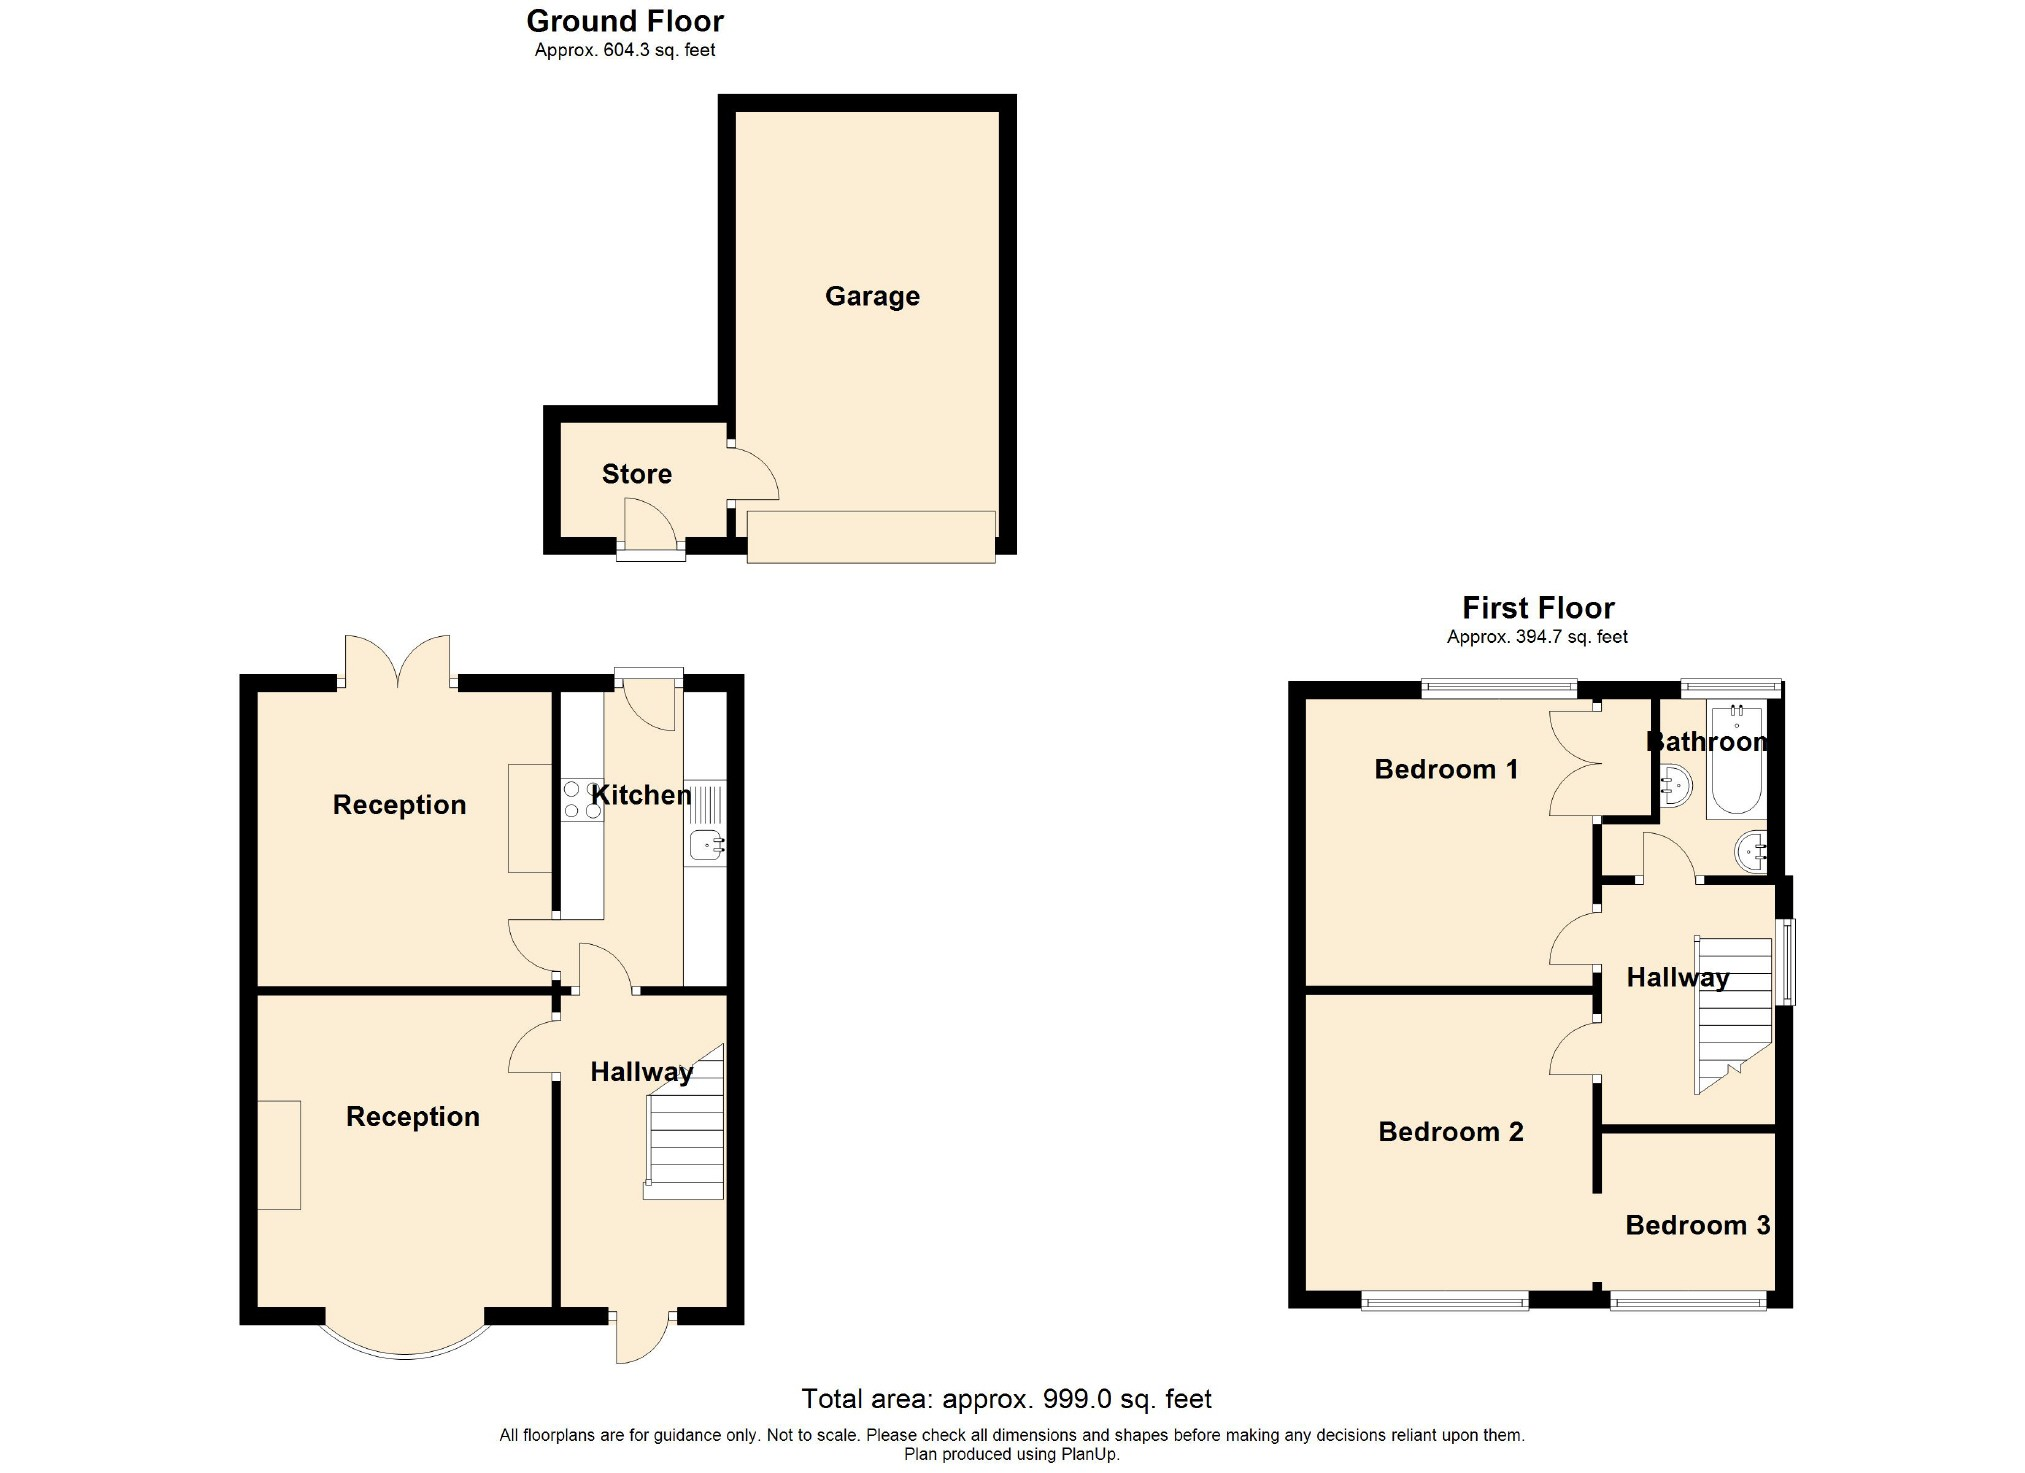door: (1542, 706, 1593, 824), (340, 627, 454, 674), (489, 916, 549, 975), (1638, 828, 1701, 876), (1541, 912, 1593, 967), (621, 492, 679, 541), (575, 937, 630, 987), (1541, 1023, 1593, 1075), (737, 446, 785, 501), (610, 1321, 667, 1365), (502, 1022, 549, 1074), (626, 690, 678, 733)
